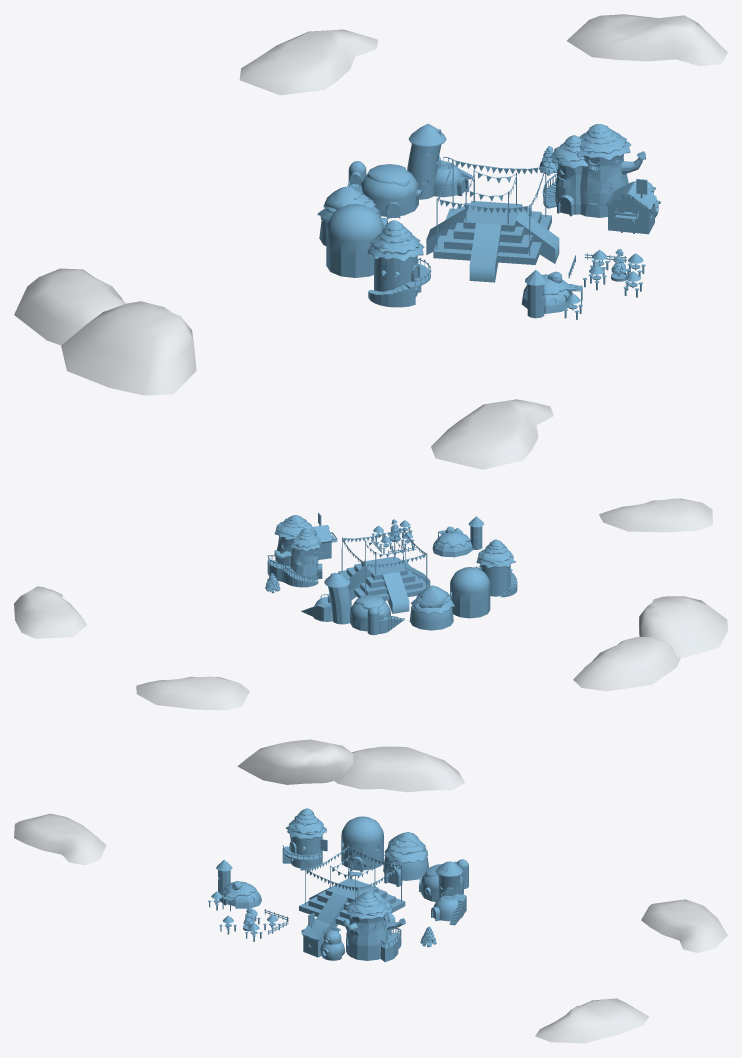
Rendered from Neighborhood_NothingHappeningHereSquareLocked.fbx.
3 renders of one model, top to bottom at view 1: azimuth 30°, elevation 25°; view 2: azimuth 150°, elevation 25°; view 3: azimuth 270°, elevation 25°, orthographic. The views are drawn at different scales.
Visible parts, largest first — view 1: Neighborhood_NothingHappeningHereSquareLocked_pasted__Nothin; view 2: Neighborhood_NothingHappeningHereSquareLocked_pasted__Nothin; view 3: Neighborhood_NothingHappeningHereSquareLocked_pasted__Nothin.
Boxes of the visible parts, bbox=[...] form: Neighborhood_NothingHappeningHereSquareLocked_pasted__Nothin: bbox=[14, 14, 727, 469]; Neighborhood_NothingHappeningHereSquareLocked_pasted__Nothin: bbox=[14, 498, 727, 710]; Neighborhood_NothingHappeningHereSquareLocked_pasted__Nothin: bbox=[14, 739, 727, 1043].
Size of the model in its own units: 6034 by 654 by 6172.
